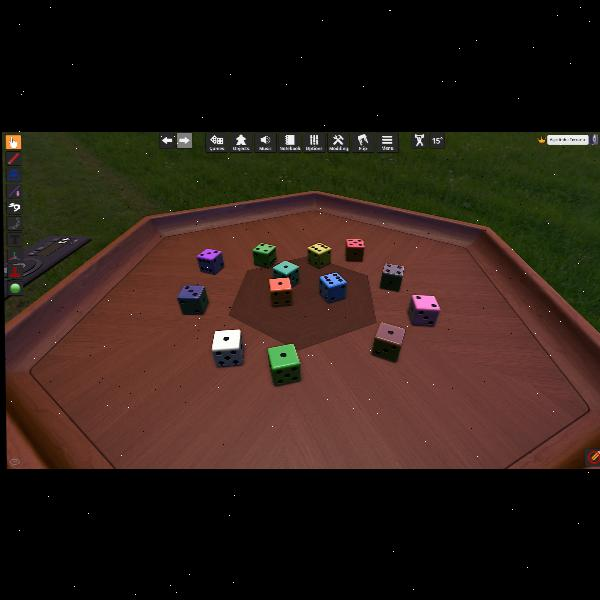d6: (371, 321, 405, 362), (267, 343, 300, 385), (211, 328, 243, 366), (409, 294, 440, 326), (178, 284, 209, 314), (318, 272, 344, 302), (196, 248, 224, 274), (269, 278, 294, 306), (273, 260, 299, 286), (380, 263, 404, 291), (252, 242, 276, 268), (307, 242, 329, 268), (346, 238, 364, 262)
